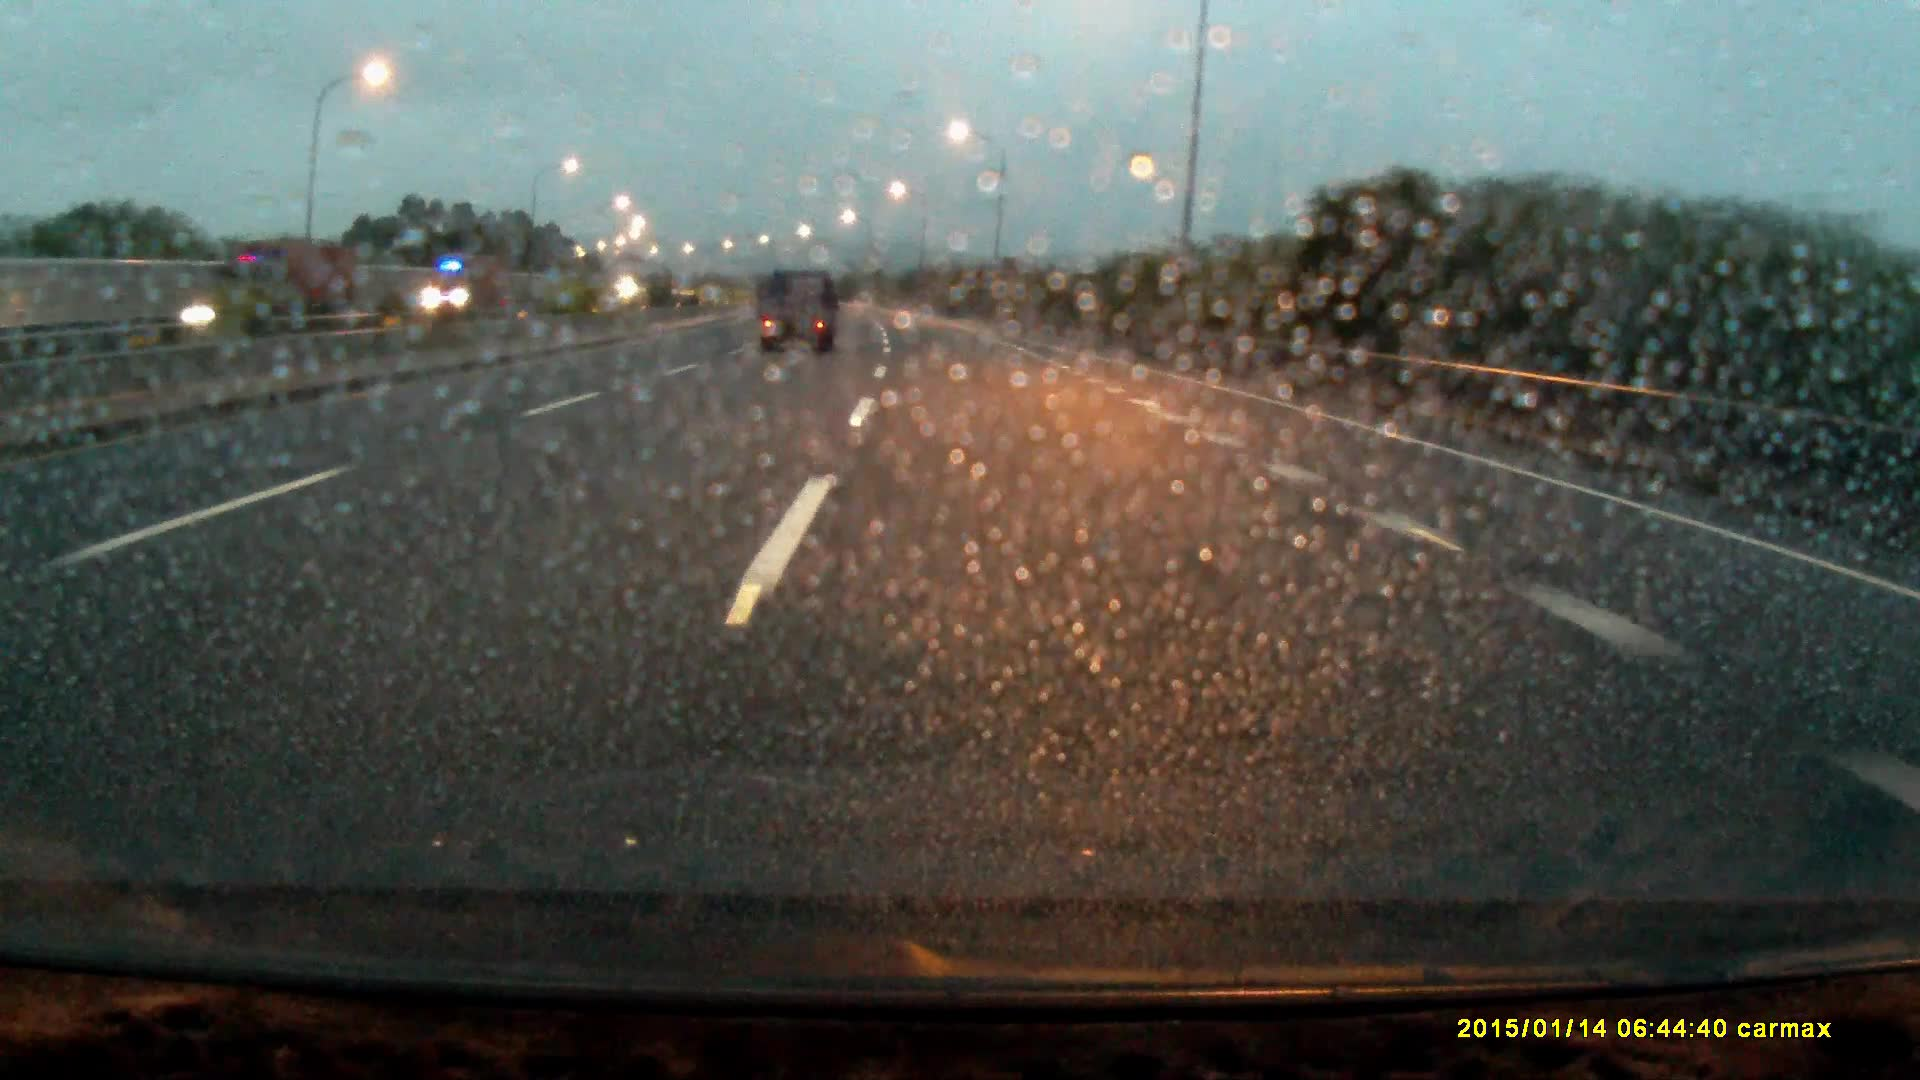vehicle: (193, 244, 353, 331), (757, 272, 837, 361), (418, 251, 504, 316)
